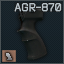M870 FAB Defense AGR-870 pistol grip: (0, 0, 64, 64)
